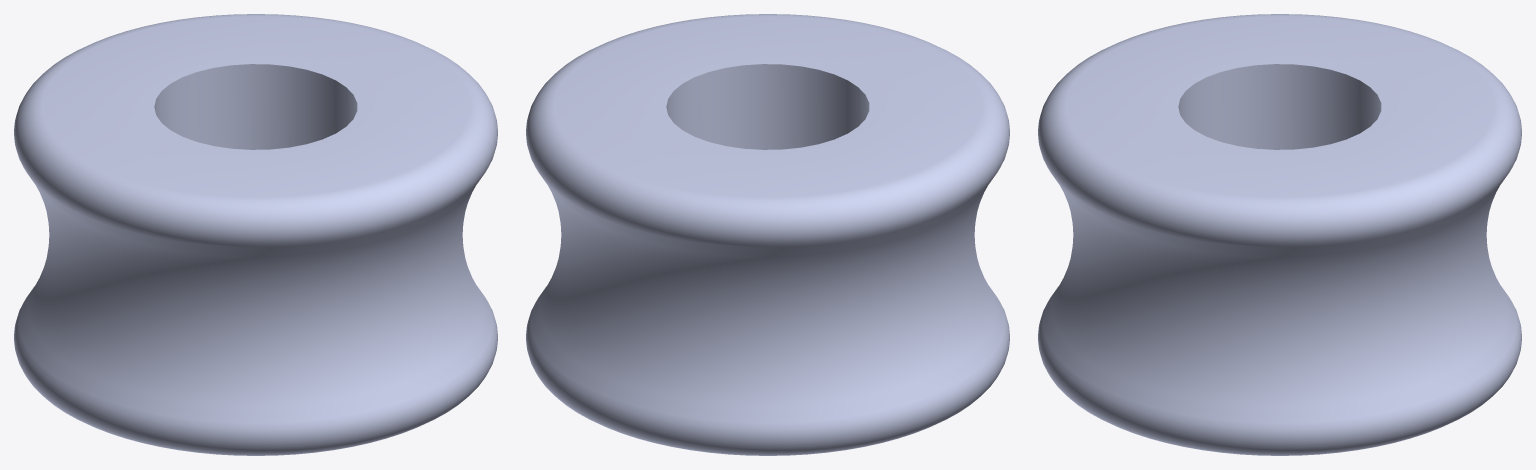
3 views of the same model, side by side, from view 1: azimuth 30°, elevation 25°; view 2: azimuth 150°, elevation 25°; view 3: azimuth 270°, elevation 25° (orthographic).
Visible parts, largest first — view 1: node0; view 2: node0; view 3: node0.
Boxes of the visible parts, bbox=[...] form: node0: bbox=[14, 14, 497, 455]; node0: bbox=[526, 14, 1009, 455]; node0: bbox=[1038, 14, 1521, 455].
Bounding box in the file's own units: 0.00857 × 0.005 × 0.00857.
